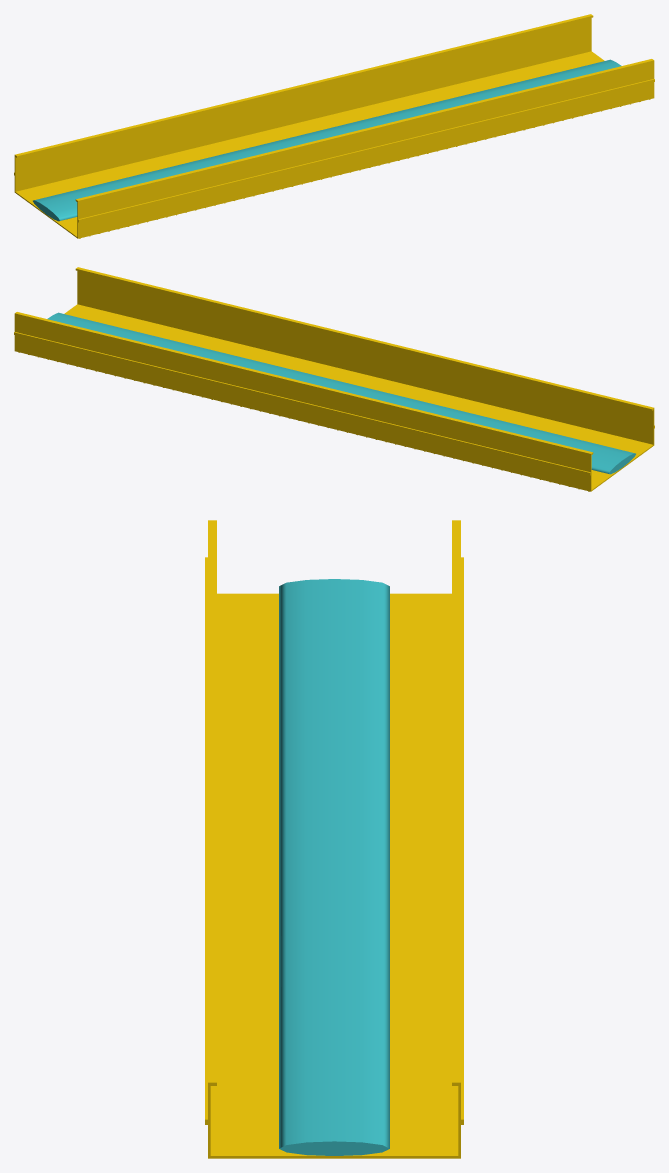
Rendered from Fiber_Straight_1m8.glb.
3 views of the same model, one above another, from view 1: azimuth 30°, elevation 25°; view 2: azimuth 150°, elevation 25°; view 3: azimuth 270°, elevation 25° (orthographic). The views are drawn at different scales.
Visible parts, largest first — view 1: Channel, FLOW_fiber; view 2: Channel, FLOW_fiber; view 3: Channel, FLOW_fiber.
Part boxes in pixels (box(x1,y1,x2,y2)): Channel: box(14, 14, 654, 238); FLOW_fiber: box(33, 59, 621, 221); Channel: box(14, 267, 654, 491); FLOW_fiber: box(47, 312, 635, 474); Channel: box(205, 520, 463, 1158); FLOW_fiber: box(279, 579, 389, 1155).
Bounding box in the file's own units: 1.8 × 0.117 × 0.35.
